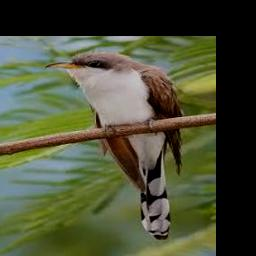Cuckoo: (45, 51, 183, 239)
